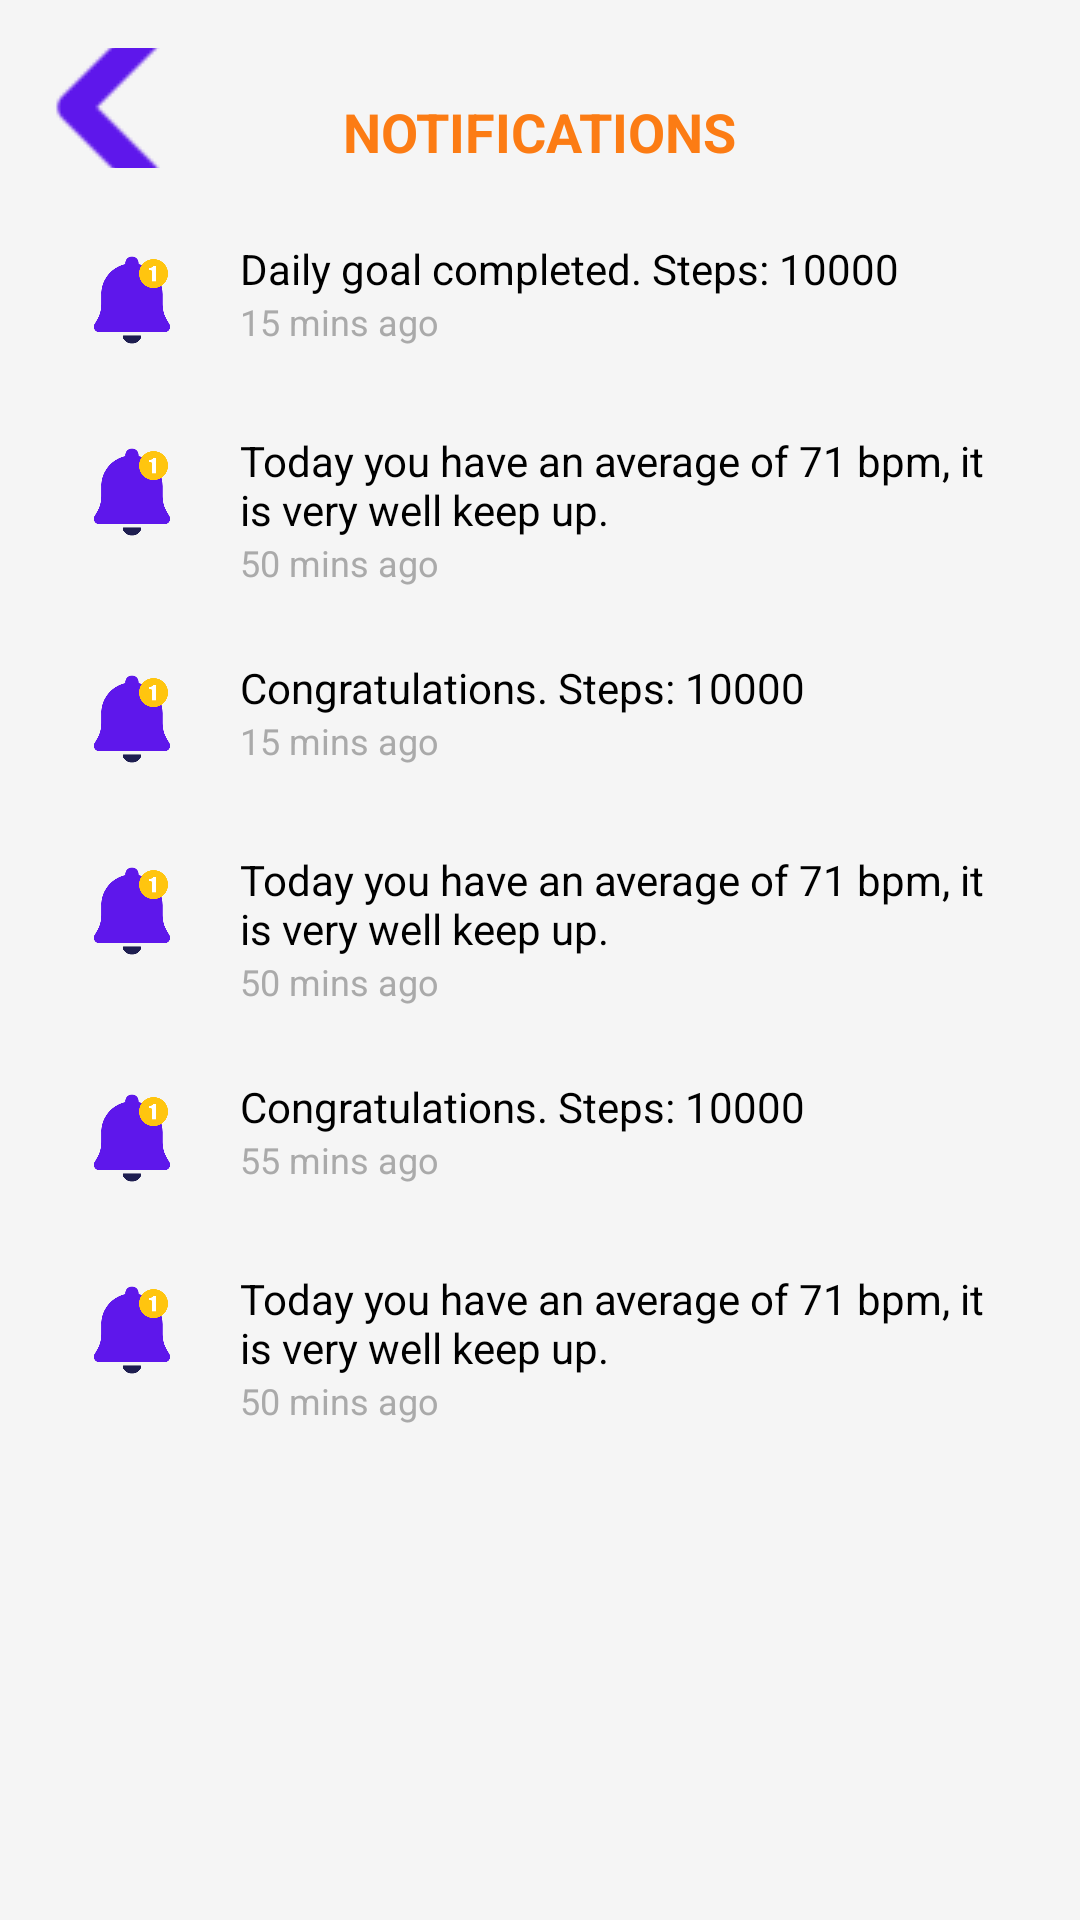

Where icons sit on this 1080x1920 app screen, as (x1, y1, x2, y2):
Back: (56, 48, 160, 168)
notification: (94, 256, 170, 344), (94, 448, 170, 536), (94, 675, 170, 763), (94, 867, 170, 955), (94, 1094, 170, 1182), (94, 1286, 170, 1374)
